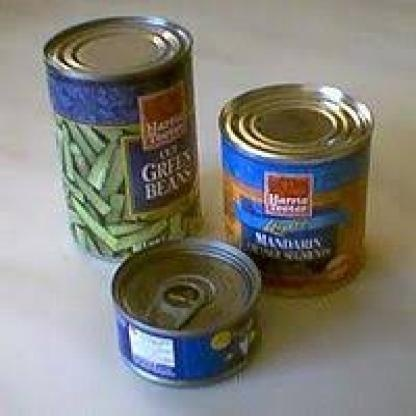trash: (44, 17, 197, 255), (219, 83, 372, 292), (112, 239, 260, 383)
